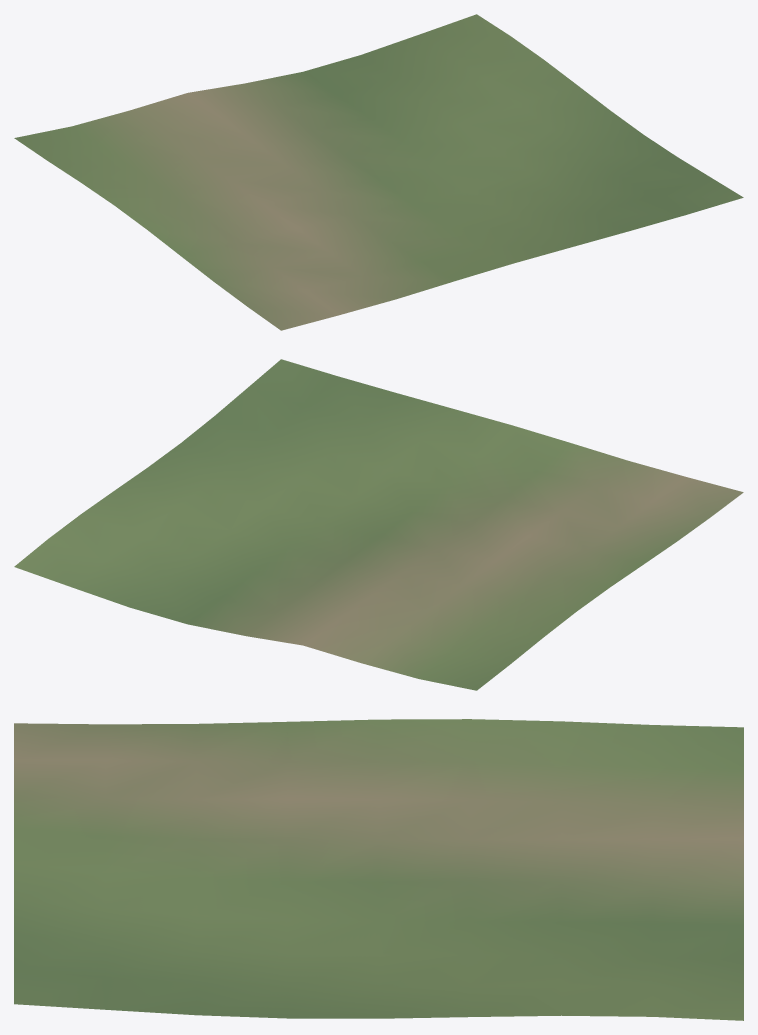
Rendered from Terrain-4-0-1.glb.
The picture shows the model from 3 angles, top to bottom: view 1: azimuth 30°, elevation 25°; view 2: azimuth 150°, elevation 25°; view 3: azimuth 270°, elevation 25°; orthographic projection. The views are drawn at different scales.
Visible parts, largest first — view 1: Terrain-4-0-1; view 2: Terrain-4-0-1; view 3: Terrain-4-0-1.
Part boxes in pixels (x1=…): Terrain-4-0-1: x1=14, y1=14, x2=743, y2=330; Terrain-4-0-1: x1=14, y1=359, x2=743, y2=690; Terrain-4-0-1: x1=14, y1=719, x2=743, y2=1020.
Size of the model in its own units: 6 by 0.3381 by 6.
